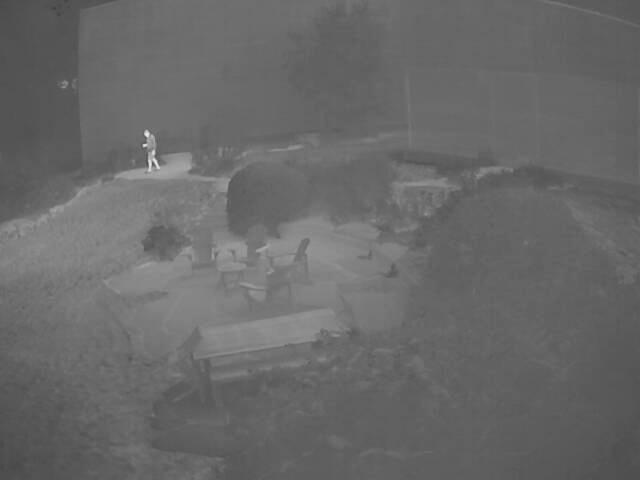person: (142, 129, 160, 173)
